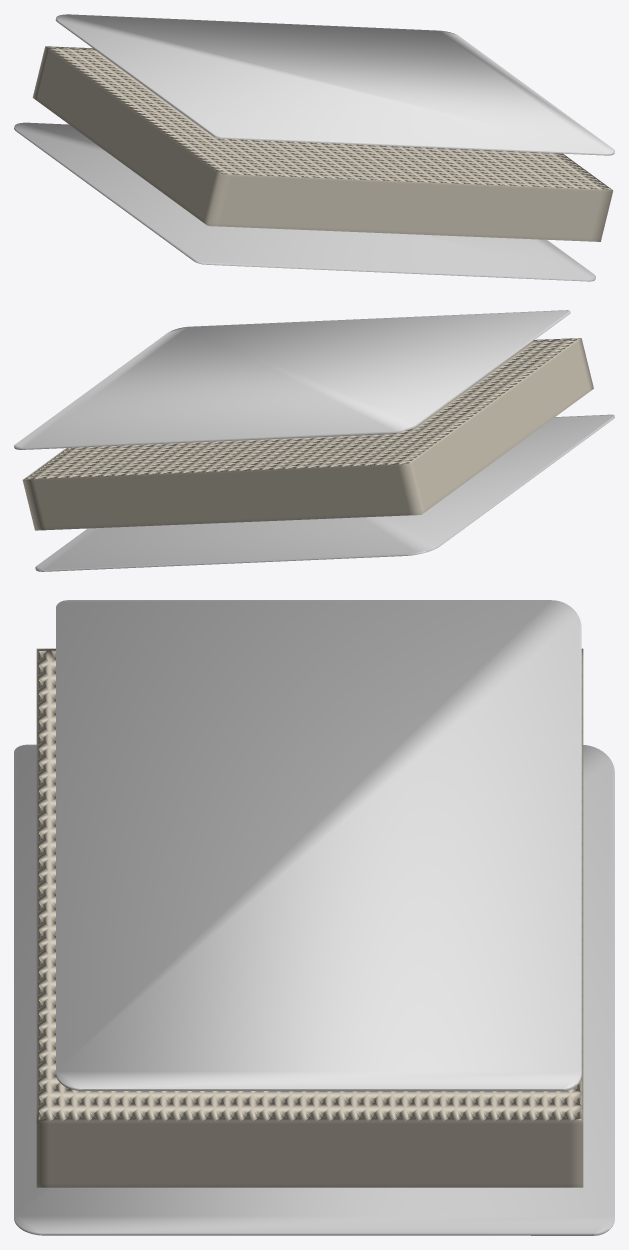
The model's file is Melody_Mattress.glb.
3 views of the same model, one above another, from view 1: azimuth 30°, elevation 25°; view 2: azimuth 150°, elevation 25°; view 3: azimuth 270°, elevation 25° (orthographic). The views are drawn at different scales.
Parts seen in each view (by area): view 1: Cube.186, Cube.184, Cube.185; view 2: Cube.184, Cube.186, Cube.185; view 3: Cube.184, Cube.186, Cube.185.
Part boxes in pixels (x1,y1,x2,y2): Cube.186: [32, 46, 613, 241]; Cube.184: [55, 14, 614, 155]; Cube.185: [14, 122, 595, 281]; Cube.184: [14, 310, 570, 449]; Cube.186: [22, 338, 593, 530]; Cube.185: [35, 414, 614, 571]; Cube.184: [56, 600, 581, 1091]; Cube.186: [36, 648, 583, 1187]; Cube.185: [14, 744, 614, 1235].
Bounding box in the file's own units: 14.4 × 7.13 × 11.01.
